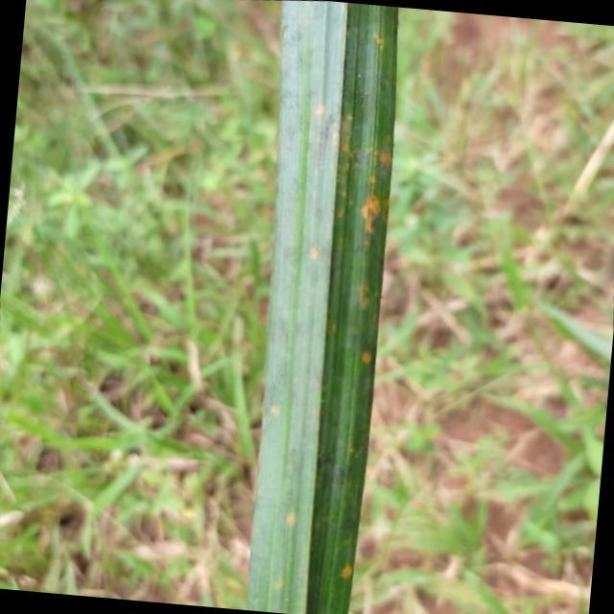Kalium: (248, 0, 401, 614)
